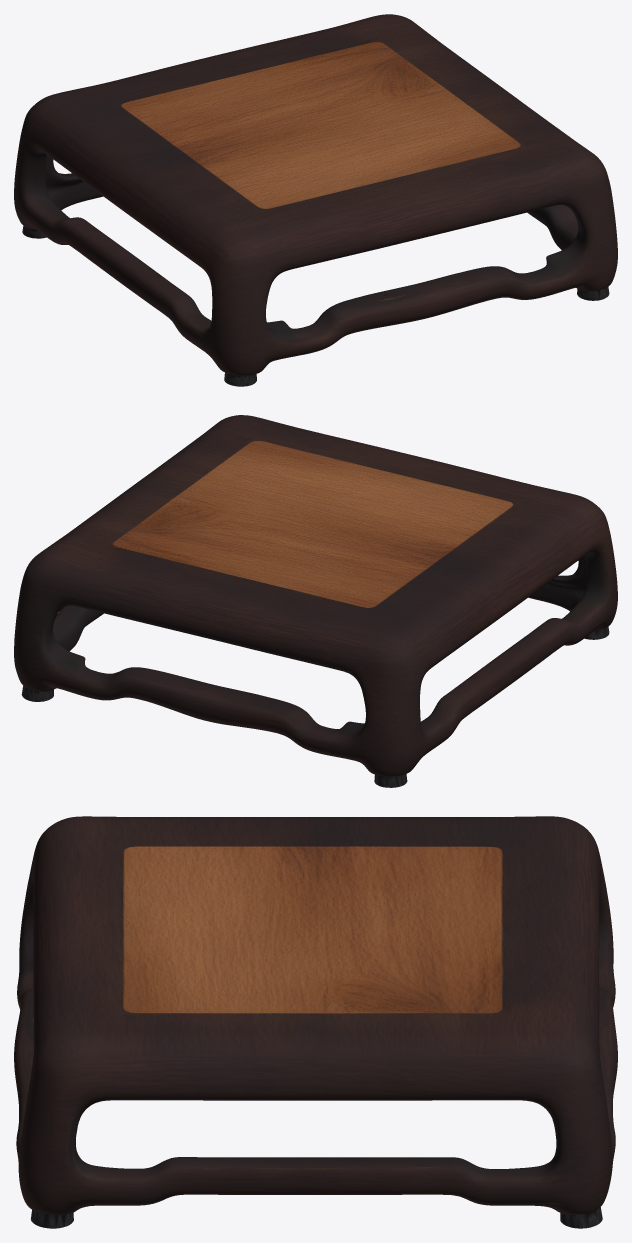
The picture shows the model from 3 angles, top to bottom: view 1: azimuth 30°, elevation 25°; view 2: azimuth 150°, elevation 25°; view 3: azimuth 270°, elevation 25°; orthographic projection. The views are drawn at different scales.
Parts seen in each view (by area): view 1: node_0; view 2: node_0; view 3: node_0.
Boxes of the visible parts, x1,y1,x2,y2 form: node_0: [14, 14, 617, 386]; node_0: [14, 415, 617, 787]; node_0: [14, 816, 617, 1228].
Bounding box in the file's own units: 0.8923 × 0.2916 × 0.8845.
Materials: 1 (1 with a texture image).
